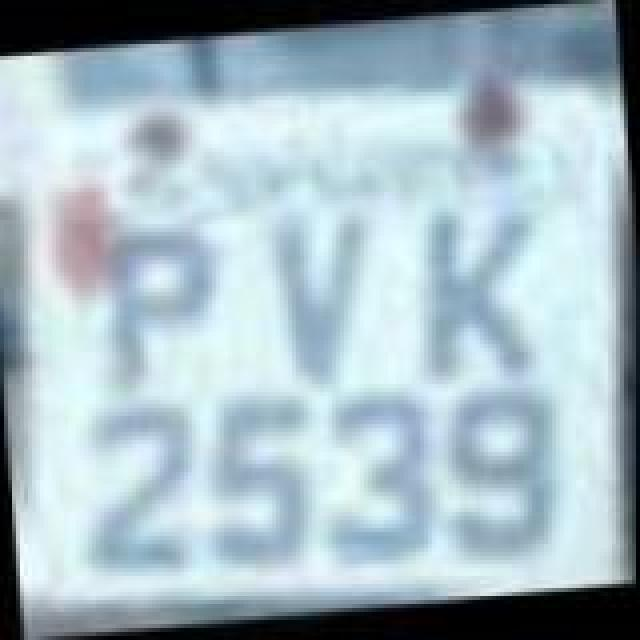2: (68, 398, 212, 582)
3: (316, 376, 452, 568)
5: (208, 392, 328, 568)
9: (434, 382, 566, 562)
K: (408, 196, 540, 380)
P: (104, 224, 228, 396)
V: (266, 198, 386, 390)
